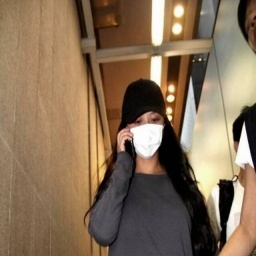correctlyWear: (126, 107, 165, 157)
noWear: (238, 1, 256, 52)
